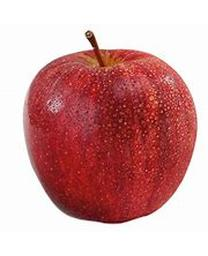apple: (21, 39, 197, 223)
